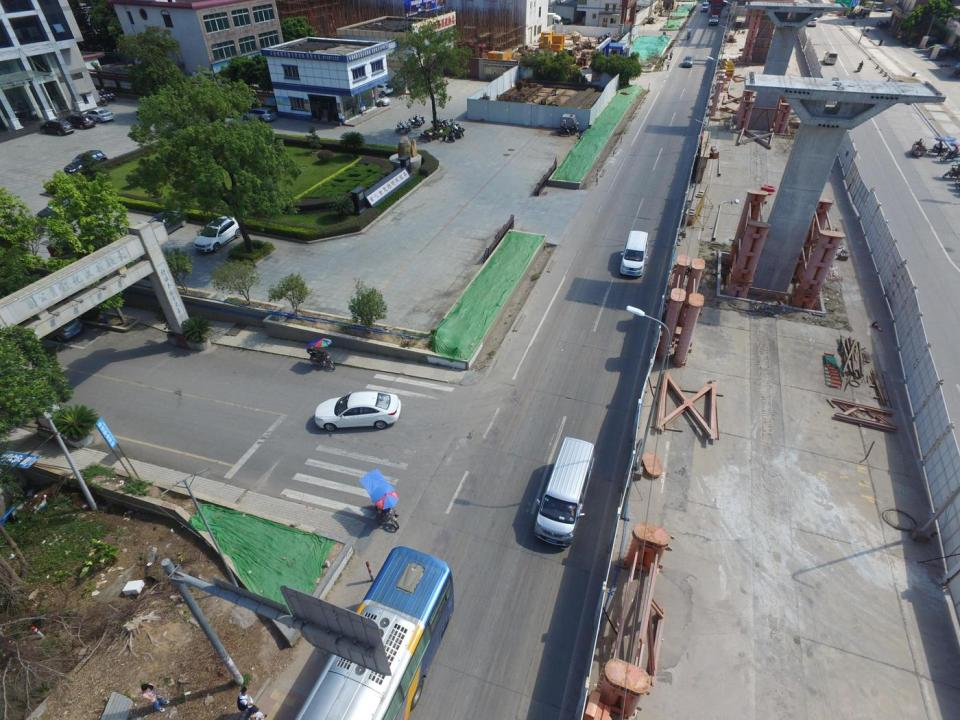bus: (294, 546, 455, 720)
car: (315, 390, 401, 431), (194, 216, 242, 254), (64, 150, 108, 178), (146, 210, 188, 238), (37, 198, 78, 220), (44, 319, 84, 341), (40, 119, 75, 135), (242, 107, 276, 123), (64, 114, 96, 129), (86, 109, 113, 123), (377, 82, 394, 96), (377, 94, 390, 106), (708, 15, 720, 25), (682, 56, 693, 66), (806, 17, 817, 27)
truck: (710, 0, 722, 16)
van: (535, 436, 594, 548), (620, 231, 648, 276), (823, 51, 837, 65), (701, 1, 708, 12)
